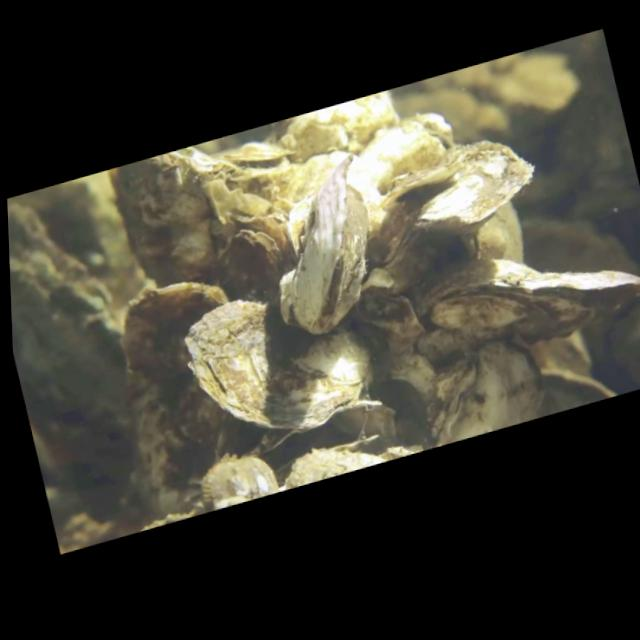Oyster-Closed: (429, 259, 640, 351), (277, 158, 381, 340), (432, 340, 556, 446), (412, 139, 537, 236)
Oyster-Indeterminate: (179, 299, 377, 438), (118, 151, 292, 301), (114, 276, 233, 387)
Oyster-Open: (218, 226, 286, 301)
